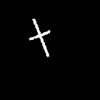single_crochet: (30, 19, 49, 56)
